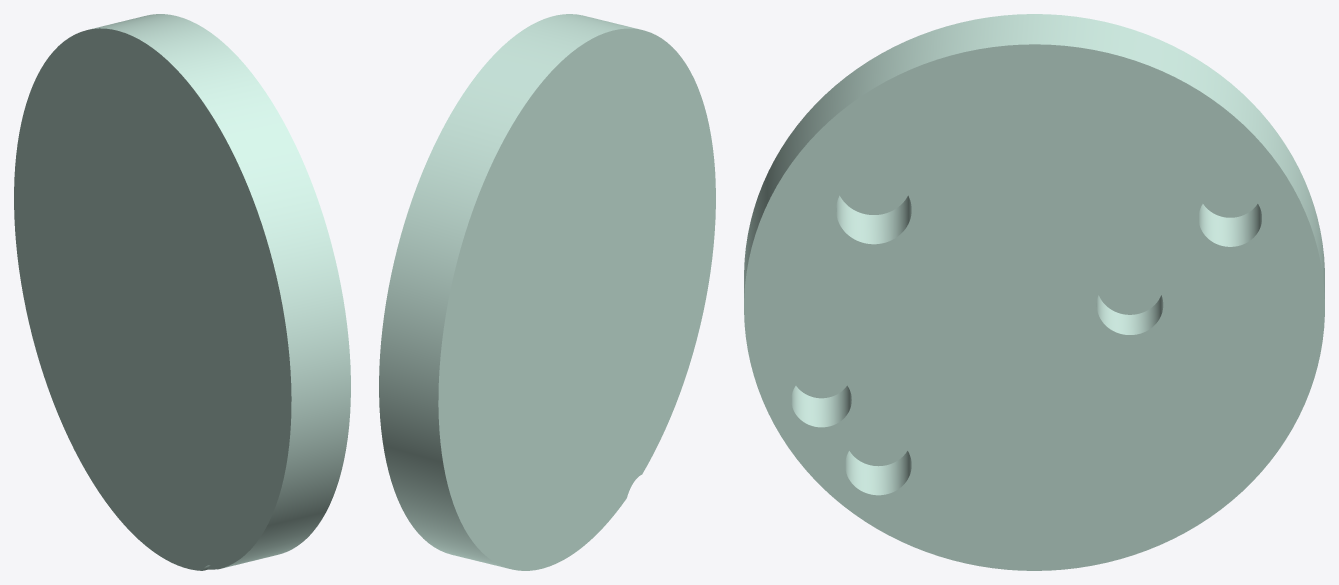
The picture shows the model from 3 angles, left to right: view 1: azimuth 30°, elevation 25°; view 2: azimuth 150°, elevation 25°; view 3: azimuth 270°, elevation 25°; orthographic projection. The views are drawn at different scales.
Parts seen in each view (by area): view 1: Renderer Node; view 2: Renderer Node; view 3: Renderer Node.
Part boxes in pixels (<box>): Renderer Node: <box>14,14,350,570</box>; Renderer Node: <box>379,14,715,570</box>; Renderer Node: <box>744,14,1324,570</box>.
Size of the model in its own units: 0.1875 by 1.52 by 1.52.
